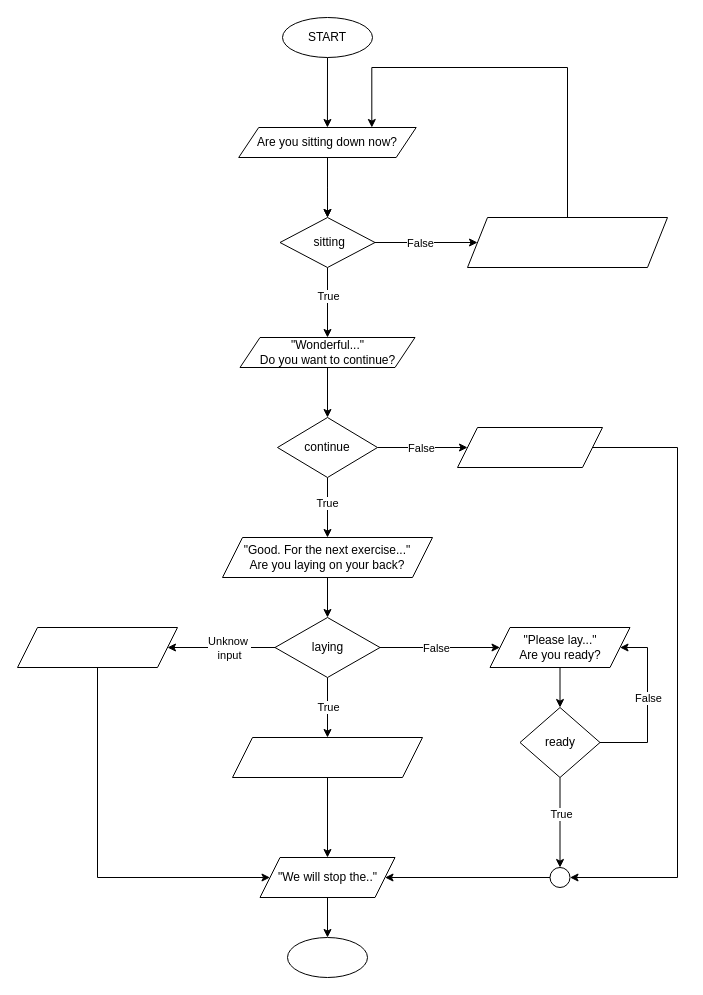
The diagram is 703 pixels wide and 995 high, and some of its shapes have lost their labels. The centre of each missing label's shape, as x and y in pixels:
"Could you please sit down for the next exercise?": point 567,242
"Great. Now we will start...": point 327,757
"We had enough...": point 529,447
"Well, it looks like you are getting tired..": point 97,647
End: point 327,957
